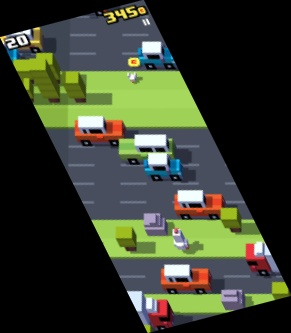car: (162, 264, 213, 296), (74, 116, 126, 147), (119, 135, 176, 163), (174, 190, 225, 221), (137, 40, 179, 71), (1, 22, 43, 52), (144, 154, 184, 181), (1, 44, 21, 63)
coin: (125, 57, 140, 69)
duck: (171, 227, 189, 251)
rock: (142, 213, 168, 237), (221, 287, 245, 311)
tree: (30, 59, 59, 102), (63, 72, 88, 103), (33, 51, 59, 79), (12, 78, 35, 103), (222, 206, 243, 233), (270, 281, 291, 307), (115, 226, 137, 250), (14, 60, 34, 83), (138, 324, 151, 333)
truck: (112, 291, 174, 331), (244, 243, 291, 276)
